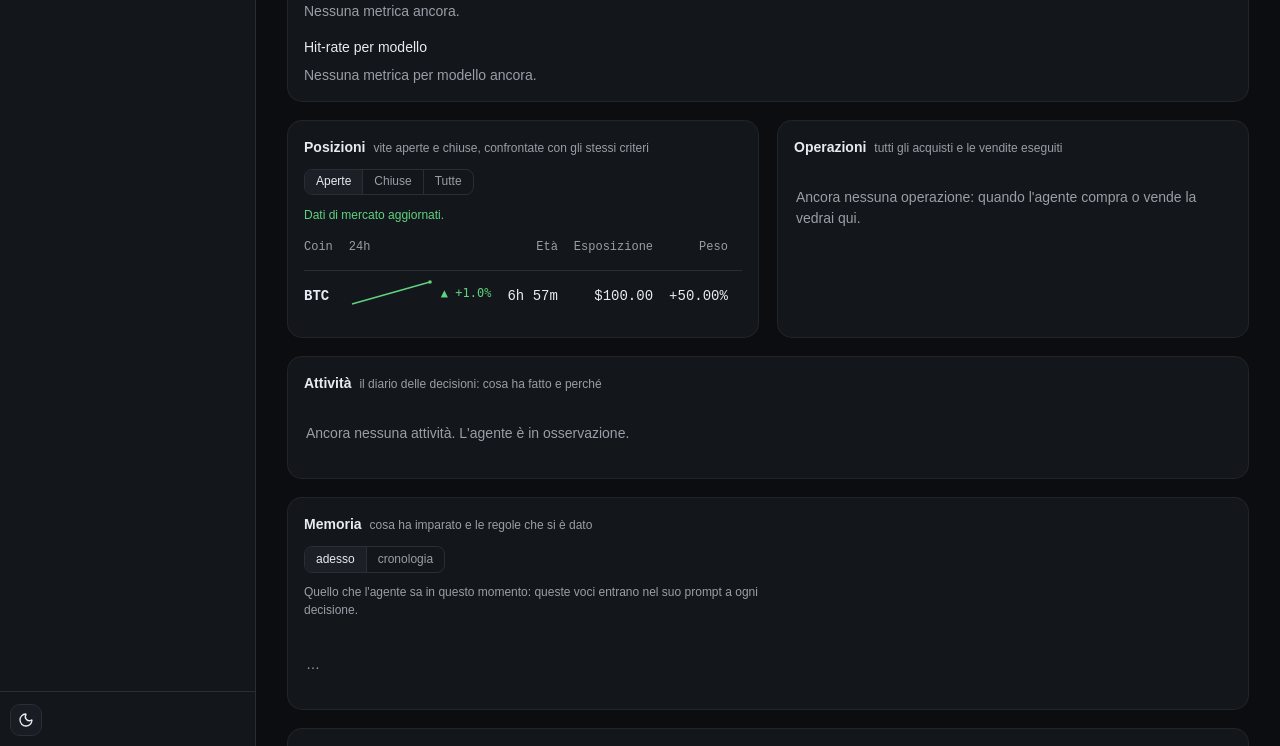
App lifecycle navigation › returns to login when detail authorization is lost
This screenshot has width=1280, height=746.
(page scrolled)
What coordinates should you click on to do the following:
click the button with aria-label "Apri dettagli BTC"
I would click on:
 (317, 296)
Its box is x1=304 y1=286 x2=329 y2=306.
(page scrolled)
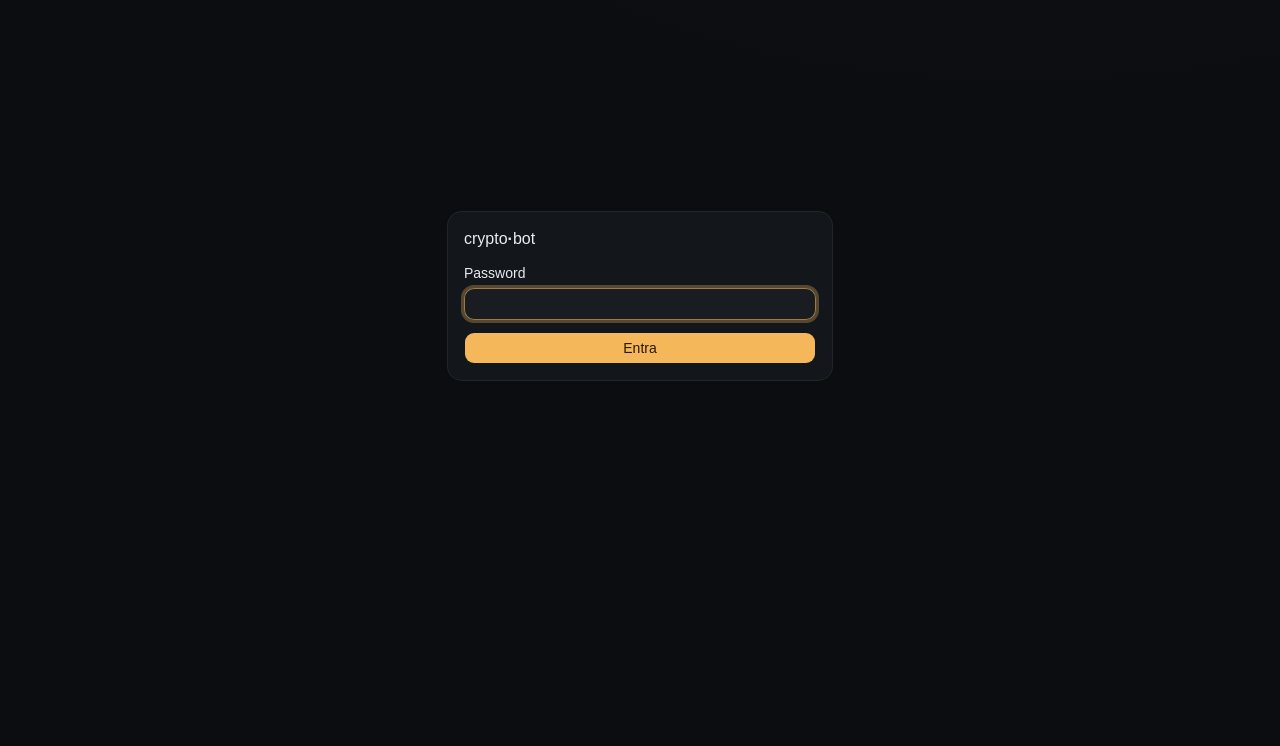
Expected: the password field labelled "Password" is shown, x1=464 y1=288 x2=816 y2=320
